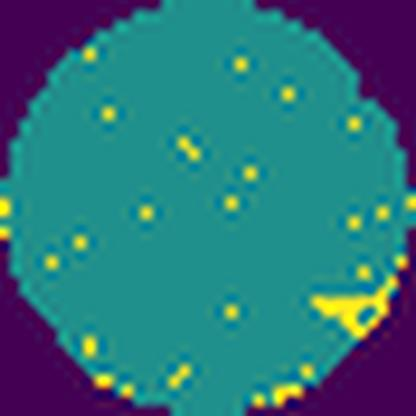Loc: (310, 274, 396, 338)
